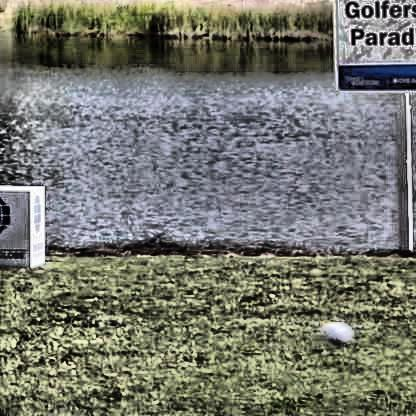golfball: (315, 315, 351, 349)
